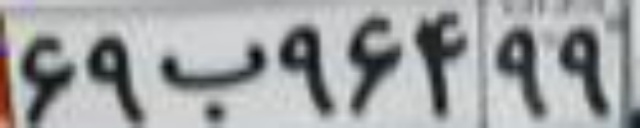4: (411, 9, 468, 116)
6: (345, 16, 404, 116), (19, 34, 75, 125)
9: (80, 33, 145, 122), (554, 22, 612, 121), (490, 21, 547, 117), (277, 22, 331, 116)
be: (153, 38, 270, 121)
